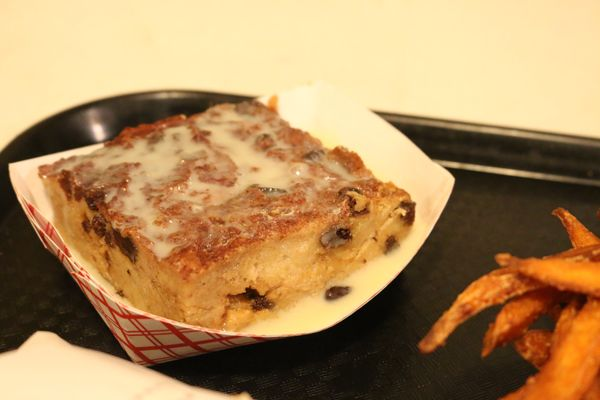curry: (0, 2, 598, 400)
sandwich: (33, 95, 419, 334)
sushi: (31, 95, 421, 334)
